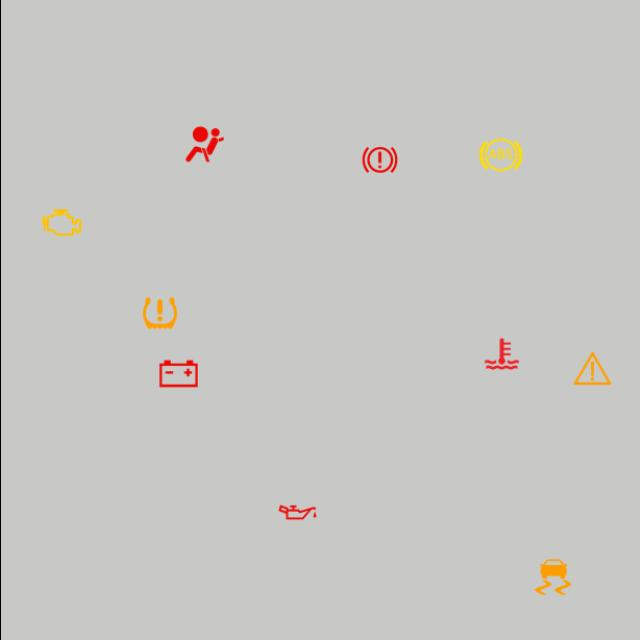Anti Lock Braking System: (476, 132, 524, 178)
Braking System Issue: (356, 136, 402, 184)
Charging System Issue: (154, 350, 201, 397)
Check Engine: (37, 199, 84, 246)
Electronic Stability Problem -ESP-: (528, 554, 576, 600)
Engine Overheating Warning Light: (478, 330, 524, 378)
Low Engine Oil Warning Light: (273, 489, 320, 536)
Low Tire Pressure Warning Light: (136, 290, 182, 336)
Master warning light: (568, 345, 615, 392)
SRS-Airbag: (180, 121, 228, 168)
